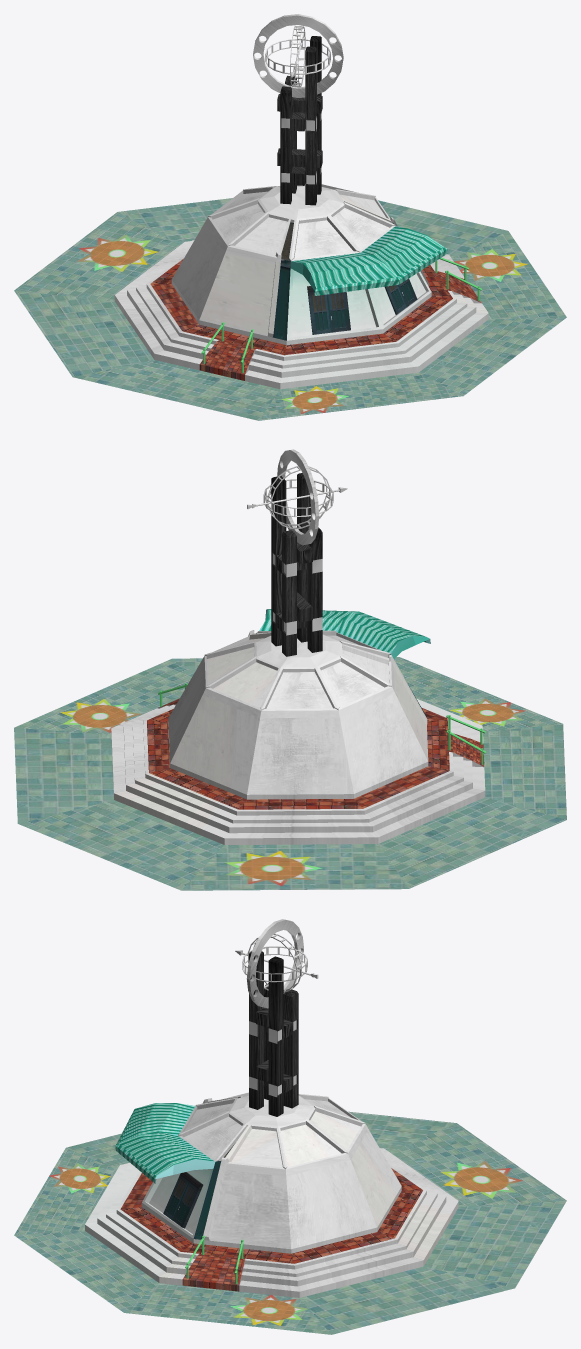
File: khatulistiwa.gltf
3 views of the same model, one above another, from view 1: azimuth 30°, elevation 25°; view 2: azimuth 150°, elevation 25°; view 3: azimuth 270°, elevation 25° (orthographic). The views are drawn at different scales.
Parts seen in each view (by area): view 1: tugu katulistiwa, Cube, Cylinder.003, Cube.001; view 2: tugu katulistiwa, Cylinder.003; view 3: tugu katulistiwa, Cube.001.
Boxes of the visible parts, x1=… form: tugu katulistiwa: x1=14, y1=14, x2=566, y2=420; Cube: x1=307, y1=286, x2=350, y2=334; Cylinder.003: x1=201, y1=257, x2=481, y2=373; Cube.001: x1=384, y1=278, x2=417, y2=314; tugu katulistiwa: x1=14, y1=449, x2=566, y2=890; Cylinder.003: x1=158, y1=683, x2=485, y2=764; tugu katulistiwa: x1=14, y1=919, x2=566, y2=1334; Cube.001: x1=163, y1=1172, x2=203, y2=1228.
Size of the model in its own units: 13.17 by 7.78 by 13.17.
Materials: 7 (6 with a texture image).
